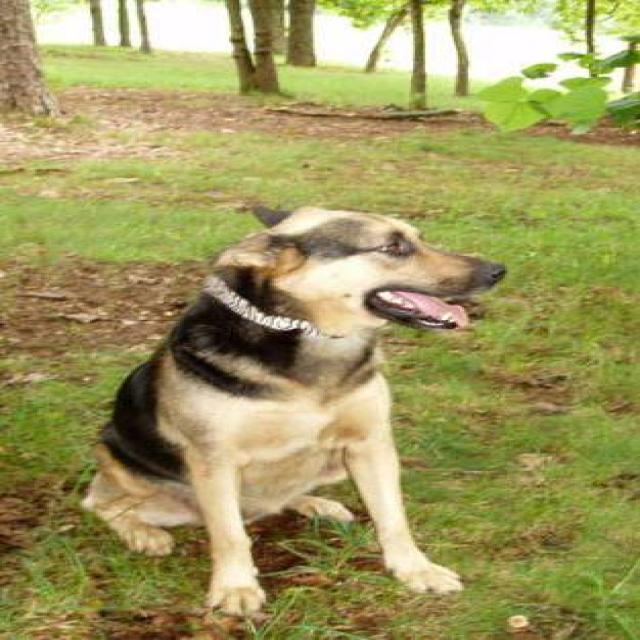dog: (78, 202, 507, 617)
